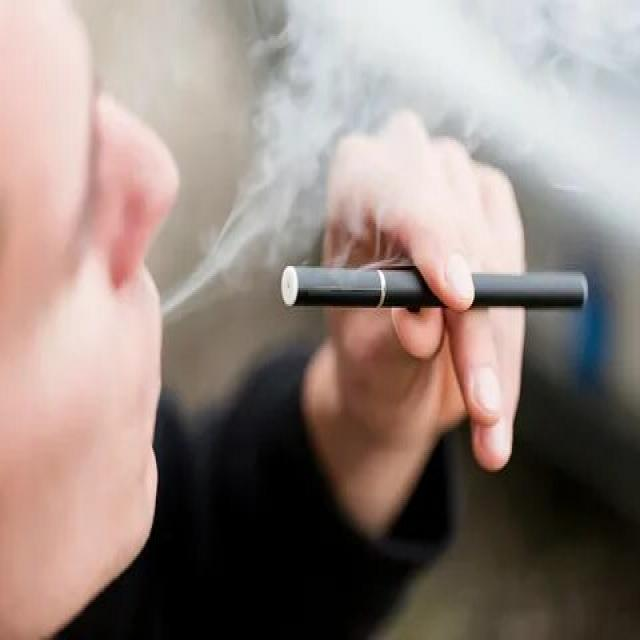cigarette: (277, 256, 600, 316)
